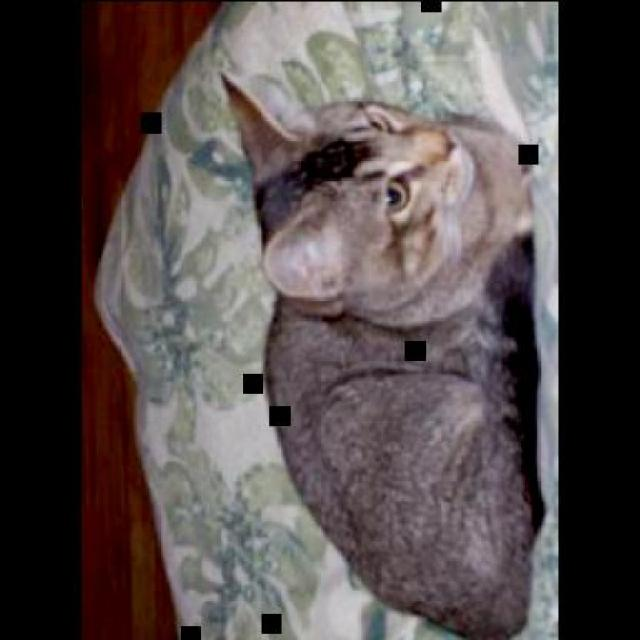unauthorized: (217, 64, 541, 638)
